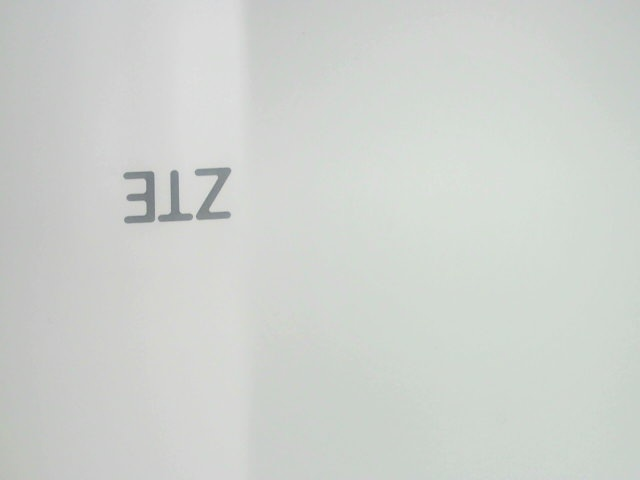AN_ZTE: (114, 163, 234, 228)
